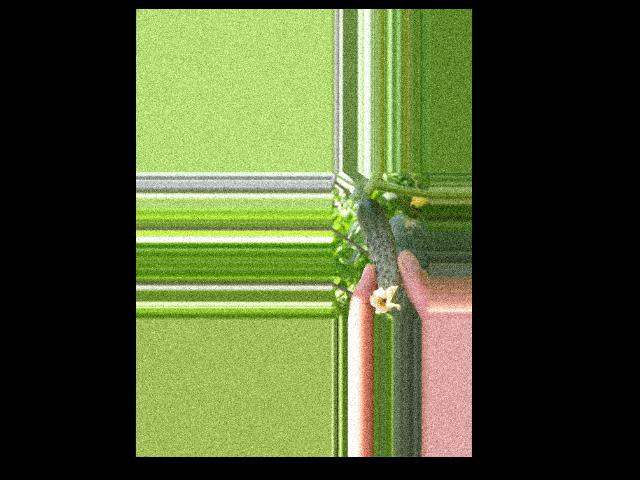cucumber: (357, 197, 401, 313)
